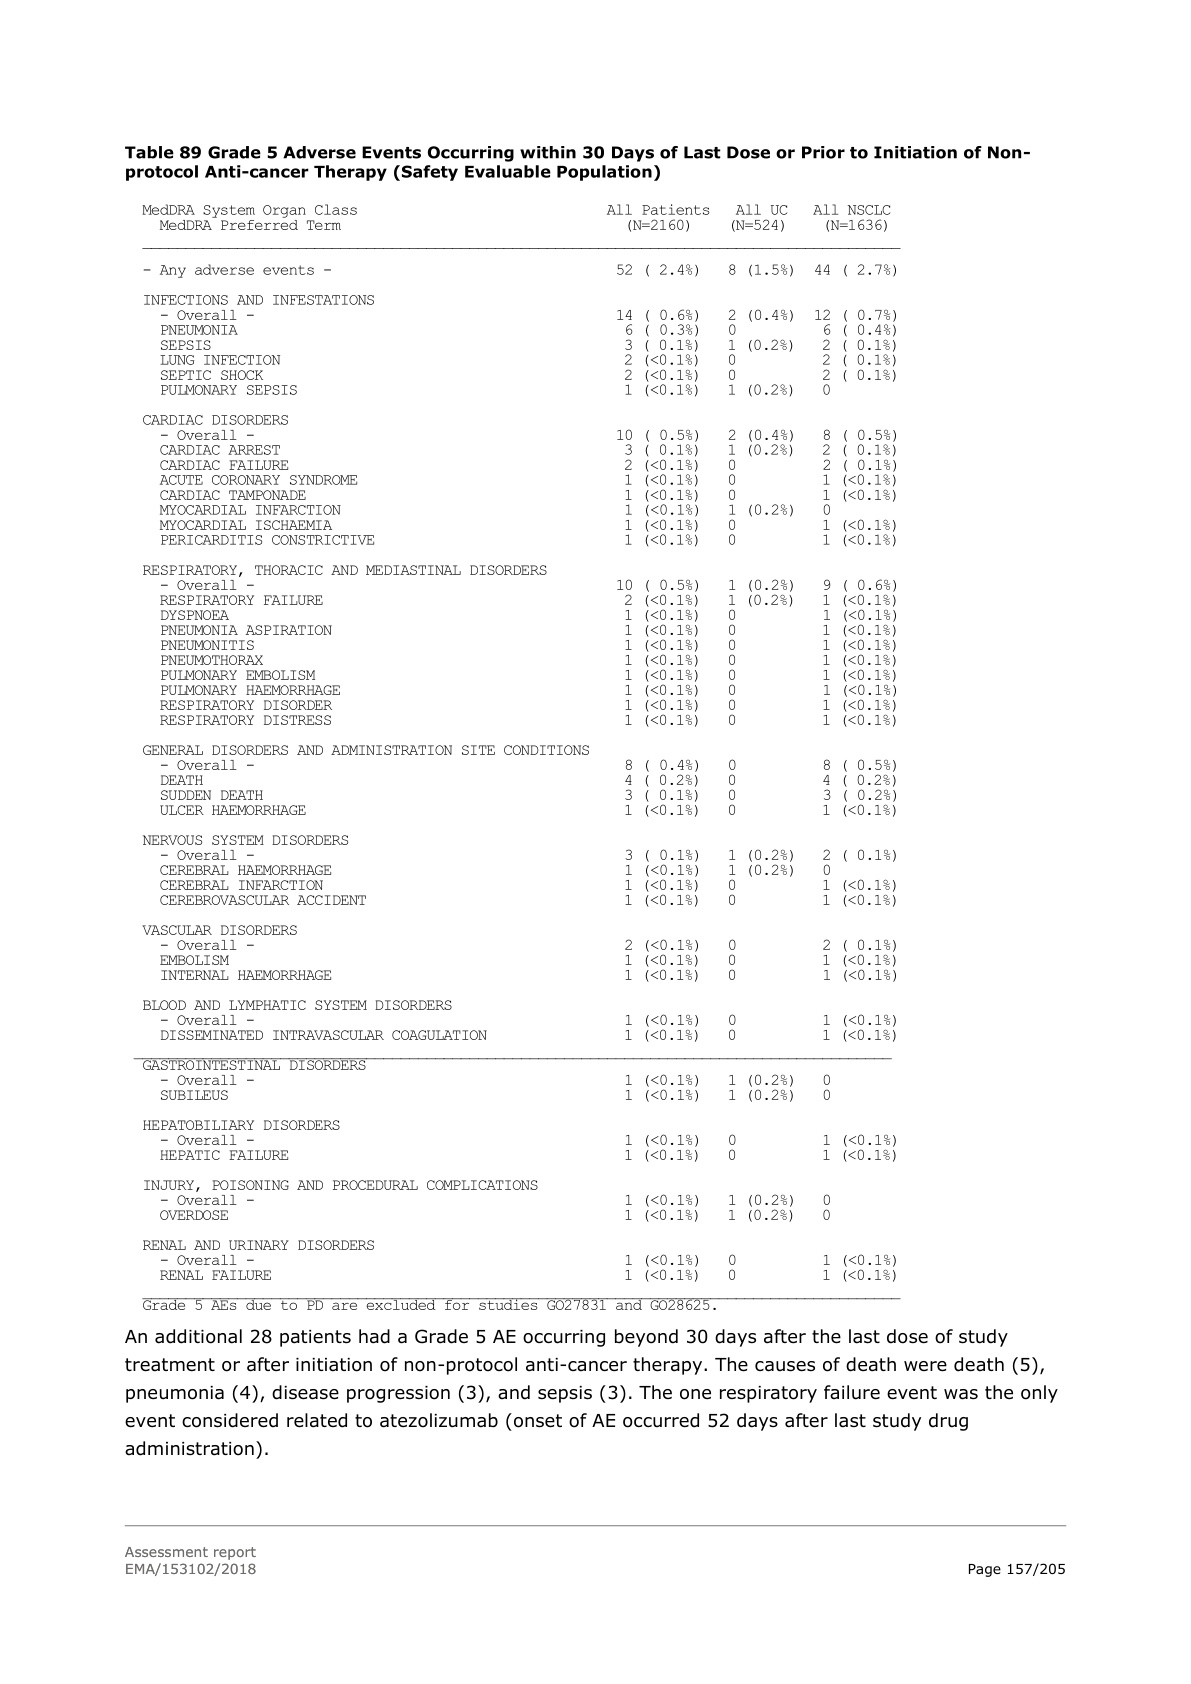partial_lined: (133, 204, 906, 1303)
